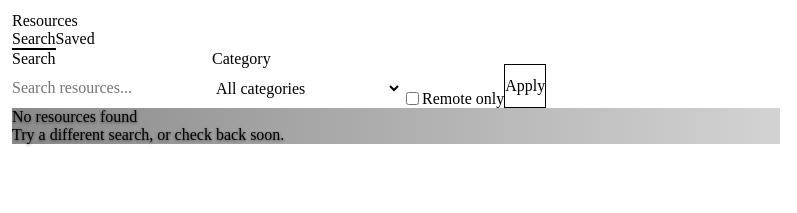
Scenario: ResourcesPage › switches to the Saved tab and shows a saved resource
The image size is (797, 213).
expect the text "No resources found" is shown: met, box [12,108,137,126]
Click the tab "Saved": (75,40) [56,30,95,50]
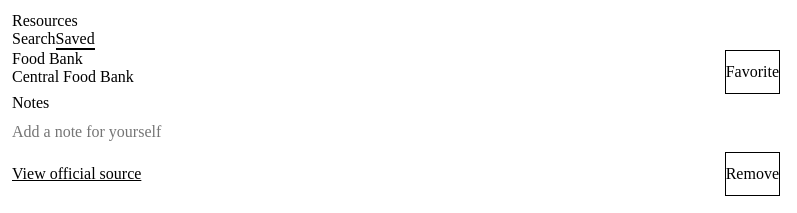
expect the text "Food Bank" is shown: met, box [12,50,83,67]
expect the button "Favorite" is shown: met, box [725,50,780,94]
